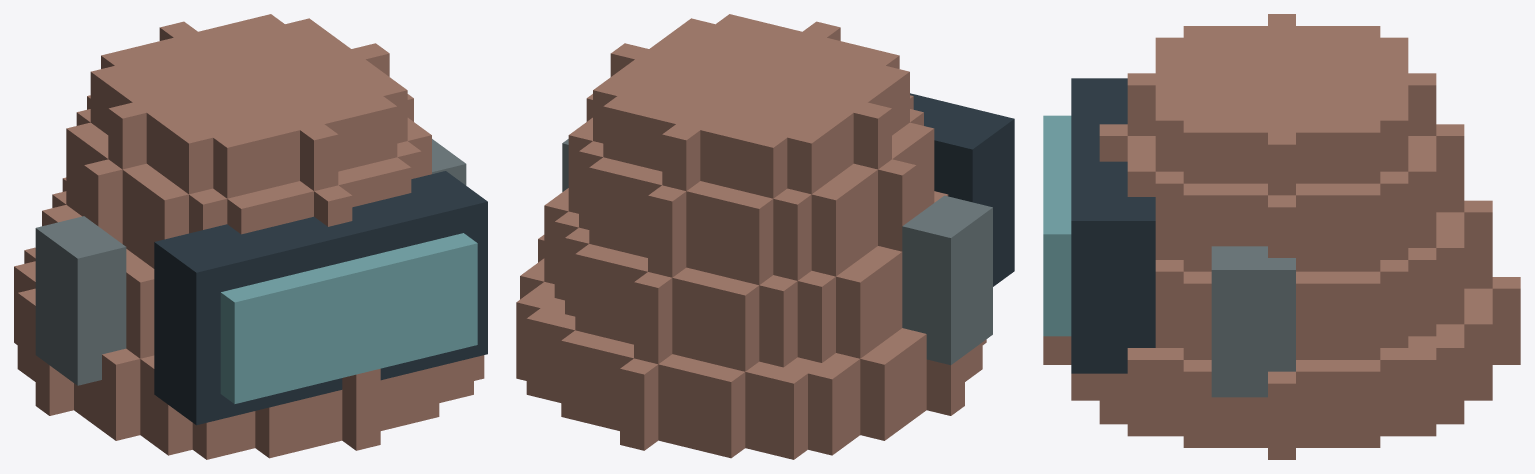
The model's file is automotive-13.glb.
3 views of the same model, side by side, from view 1: azimuth 30°, elevation 25°; view 2: azimuth 150°, elevation 25°; view 3: azimuth 270°, elevation 25° (orthographic).
Visible parts, largest first — view 1: Safety helmet; view 2: Safety helmet; view 3: Safety helmet.
Boxes of the visible parts, left/top/right/bottom form: Safety helmet: left=14, top=14, right=487, bottom=459; Safety helmet: left=516, top=14, right=1014, bottom=459; Safety helmet: left=1043, top=14, right=1520, bottom=459.
Bounding box in the file's own units: 1.36 × 0.88 × 1.36.
